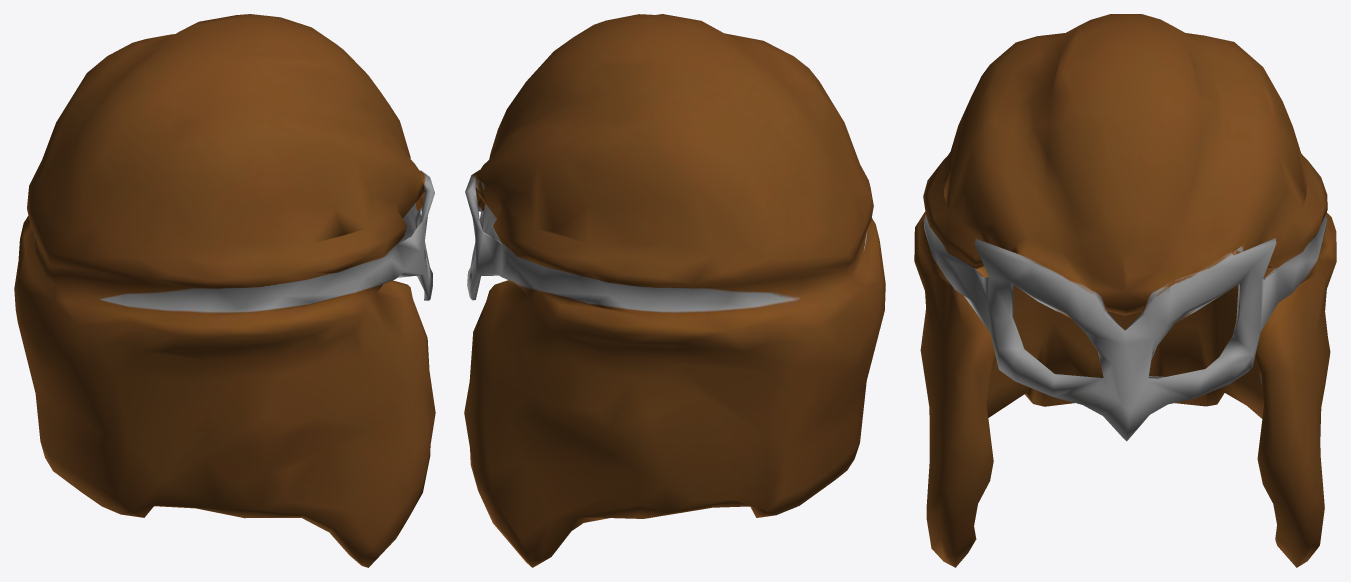
File: Helmet_Bronze.fbx
The picture shows the model from 3 angles, left to right: view 1: azimuth 30°, elevation 25°; view 2: azimuth 150°, elevation 25°; view 3: azimuth 270°, elevation 25°; orthographic projection. The views are drawn at different scales.
Visible parts, largest first — view 1: tripo_node_aa5fffb0; view 2: tripo_node_aa5fffb0; view 3: tripo_node_aa5fffb0.
Part boxes in pixels (x1=…): tripo_node_aa5fffb0: x1=14, y1=14, x2=435, y2=567; tripo_node_aa5fffb0: x1=464, y1=14, x2=885, y2=567; tripo_node_aa5fffb0: x1=914, y1=14, x2=1336, y2=567.
Bounding box in the file's own units: 0.8342 × 1 × 0.7529.
1 material, 1 textured.
